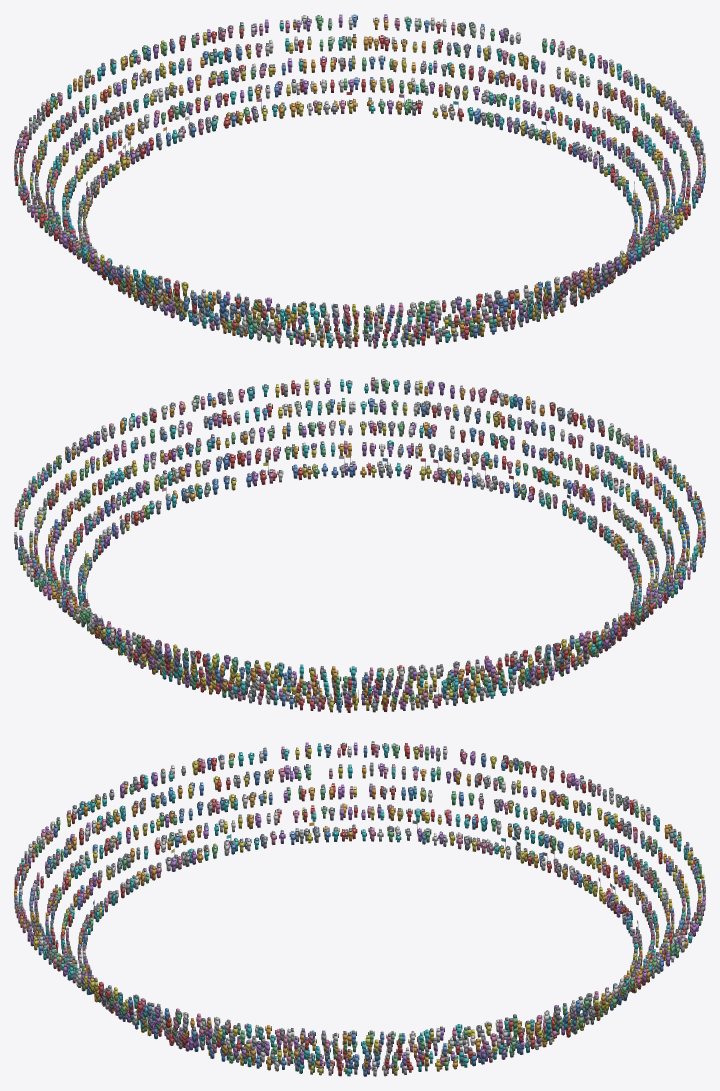
Rendered from crowd.glb.
3 views of the same model, one above another, from view 1: azimuth 30°, elevation 25°; view 2: azimuth 150°, elevation 25°; view 3: azimuth 270°, elevation 25° (orthographic).
Parts seen in each view (by area): view 1: CrowdGroup_12, CrowdGroup_15, CrowdGroup_13, CrowdGroup_11, CrowdGroup_16, CrowdGroup_14, CrowdGroup_10, CrowdGroup_17, CrowdGroup_03, CrowdGroup_18, CrowdGroup_02, CrowdGroup_01 (+12 smaller); view 2: CrowdGroup_23, CrowdGroup_22, CrowdGroup_20, CrowdGroup_19, CrowdGroup_21, CrowdGroup_00, CrowdGroup_18, CrowdGroup_01, CrowdGroup_11, CrowdGroup_02, CrowdGroup_10, CrowdGroup_08 (+12 smaller); view 3: CrowdGroup_08, CrowdGroup_06, CrowdGroup_03, CrowdGroup_04, CrowdGroup_07, CrowdGroup_05, CrowdGroup_09, CrowdGroup_02, CrowdGroup_19, CrowdGroup_18, CrowdGroup_10, CrowdGroup_01 (+12 smaller).
Part boxes in pixels (box(x1,y1,x2,y2)): CrowdGroup_12: box(191, 19, 286, 128); CrowdGroup_15: box(432, 22, 524, 127); CrowdGroup_13: box(279, 14, 359, 117); CrowdGroup_11: box(120, 35, 218, 146); CrowdGroup_16: box(498, 38, 602, 144); CrowdGroup_14: box(361, 14, 446, 115); CrowdGroup_10: box(67, 58, 162, 170); CrowdGroup_17: box(557, 59, 656, 168); CrowdGroup_03: box(190, 289, 282, 343); CrowdGroup_18: box(597, 89, 692, 196); CrowdGroup_02: box(275, 301, 359, 348); CrowdGroup_01: box(362, 300, 446, 348); CrowdGroup_23: box(432, 385, 530, 491); CrowdGroup_22: box(360, 377, 444, 480); CrowdGroup_20: box(191, 384, 283, 490); CrowdGroup_19: box(120, 401, 218, 510); CrowdGroup_21: box(275, 378, 356, 480); CrowdGroup_00: box(498, 400, 603, 509); CrowdGroup_18: box(65, 423, 161, 534); CrowdGroup_01: box(562, 423, 656, 532); CrowdGroup_11: box(190, 650, 286, 706); CrowdGroup_02: box(599, 454, 692, 560); CrowdGroup_10: box(274, 662, 358, 712); CrowdGroup_08: box(432, 649, 527, 708); CrowdGroup_08: box(499, 765, 601, 872); CrowdGroup_06: box(361, 741, 447, 844); CrowdGroup_03: box(120, 765, 217, 871); CrowdGroup_04: box(192, 747, 285, 855); CrowdGroup_07: box(432, 749, 530, 855); CrowdGroup_05: box(278, 742, 357, 844); CrowdGroup_09: box(556, 787, 656, 896); CrowdGroup_02: box(66, 789, 161, 898); CrowdGroup_19: box(190, 1013, 286, 1071); CrowdGroup_18: box(275, 1028, 359, 1076); CrowdGroup_10: box(598, 817, 693, 924); CrowdGroup_01: box(28, 817, 118, 922).
Size of the model in its own units: 79.21 by 8.89 by 79.24.
